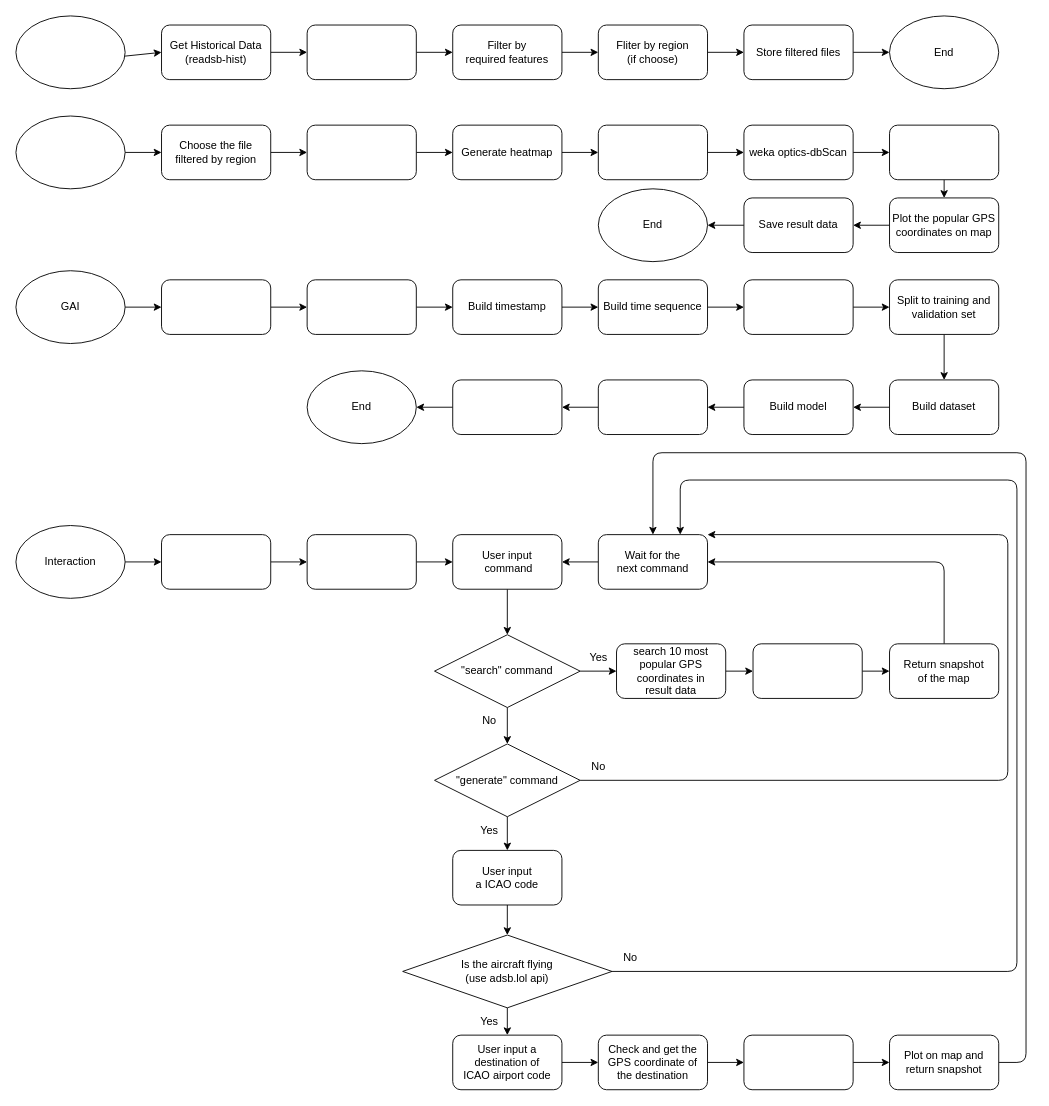
Some shapes in this 1049 by 1106 pixel diagram are drawn without their labels. The shapes that lost their labels are listed below. From the top down, each one's centre as x and y in pixels, then its label:
the point at 70,52: Preprocessing
the point at 361,52: User chose a region filter file
the point at 70,152: Mining
the point at 361,152: Plot the whole GPS coordinates on map
the point at 652,152: Fetch required features
the point at 944,152: Decide a threshold of popular GPS coordinates
the point at 216,306: Choose the merged file
the point at 361,306: Set the usable columns
the point at 798,306: Normalize
the point at 507,407: Save result model
the point at 652,407: Train and Evaluate
the point at 216,561: Activate discord bot
the point at 361,561: Get user inputted GPS coordinate or use default location
the point at 807,670: Plot on map
the point at 798,1062: Generate route
